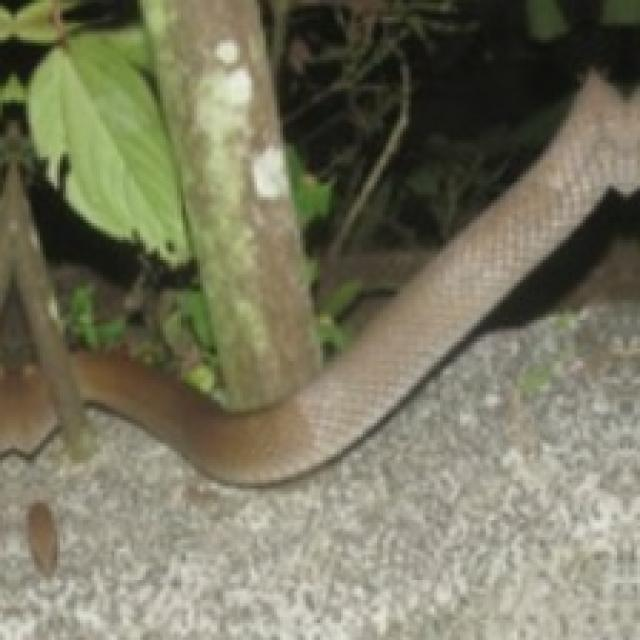reddish rat snake: (74, 71, 637, 483), (0, 366, 59, 456)
